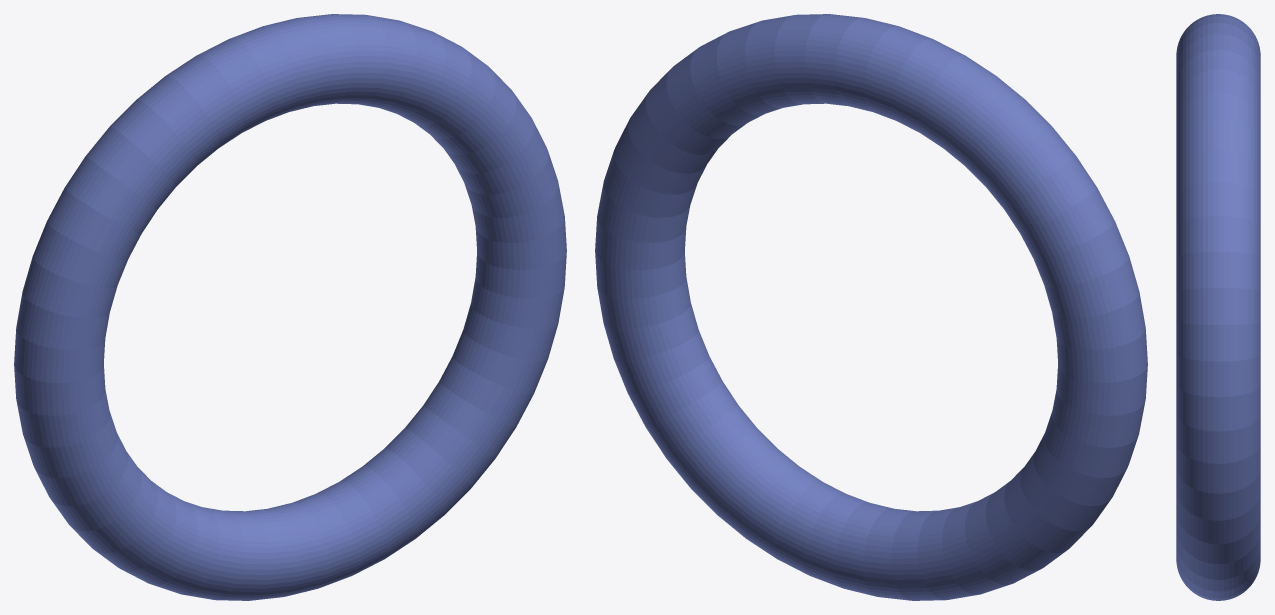
The picture shows the model from 3 angles, left to right: view 1: azimuth 30°, elevation 25°; view 2: azimuth 150°, elevation 25°; view 3: azimuth 270°, elevation 25°; orthographic projection. The views are drawn at different scales.
Parts seen in each view (by area): view 1: world; view 2: world; view 3: world.
Part boxes in pixels (x1=…): world: x1=14, y1=14, x2=566, y2=600; world: x1=595, y1=14, x2=1147, y2=600; world: x1=1176, y1=14, x2=1260, y2=600.
Size of the model in its own units: 19.47 by 19.43 by 2.79.
